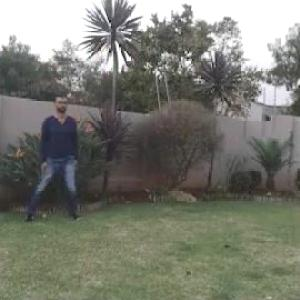follow: (41, 89, 80, 221)
